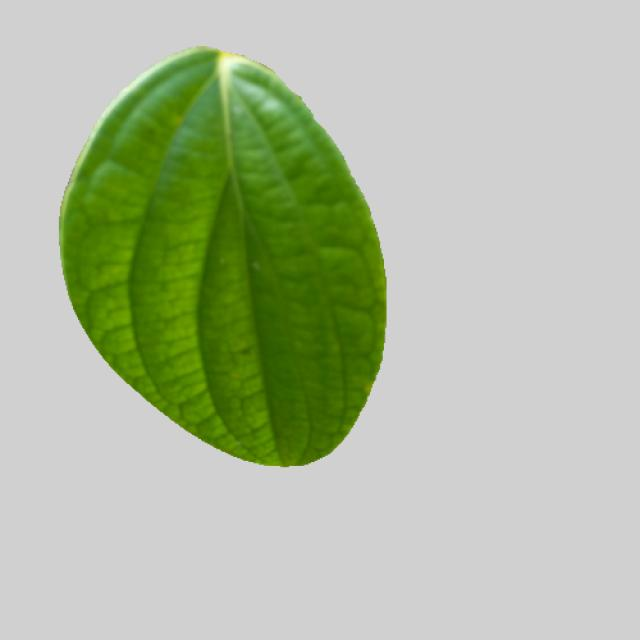healthy: (54, 41, 401, 474)
